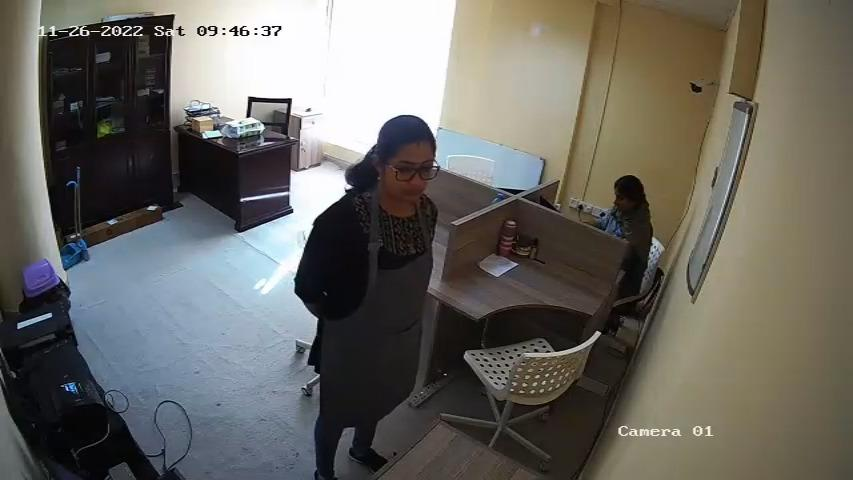apron: (335, 204, 431, 375)
